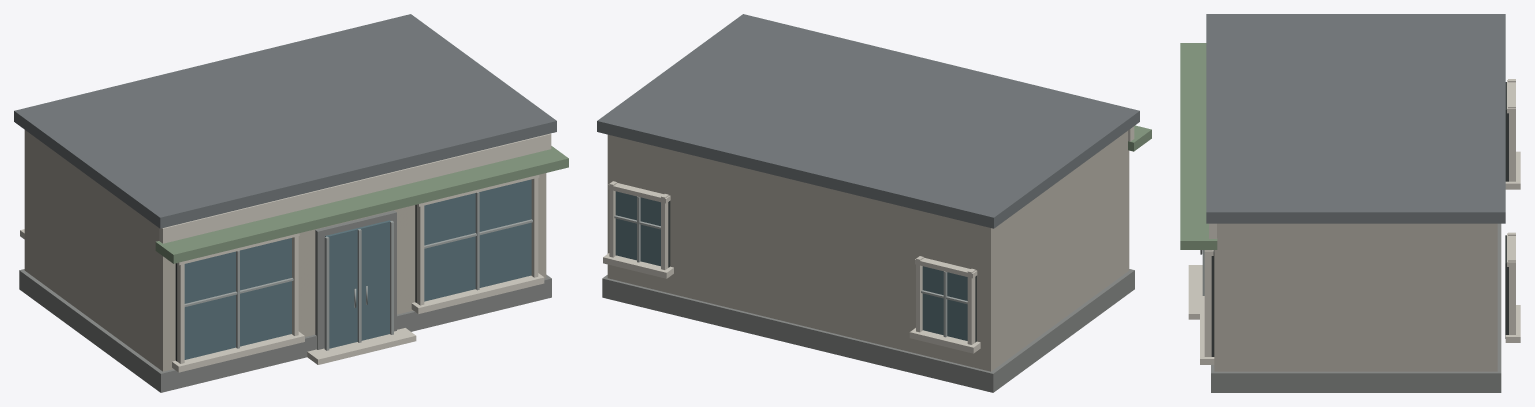
Rendered from neighborhood-shop.glb.
3 views of the same model, side by side, from view 1: azimuth 30°, elevation 25°; view 2: azimuth 150°, elevation 25°; view 3: azimuth 270°, elevation 25° (orthographic). The views are drawn at different scales.
Visible parts, largest first — view 1: neighborhood-shop; view 2: neighborhood-shop; view 3: neighborhood-shop.
Boxes of the visible parts, x1,y1,x2,y2 form: neighborhood-shop: [14, 14, 568, 392]; neighborhood-shop: [597, 14, 1151, 392]; neighborhood-shop: [1180, 14, 1520, 392].
Bounding box in the file's own units: 8.28 × 3.54 × 5.99.
